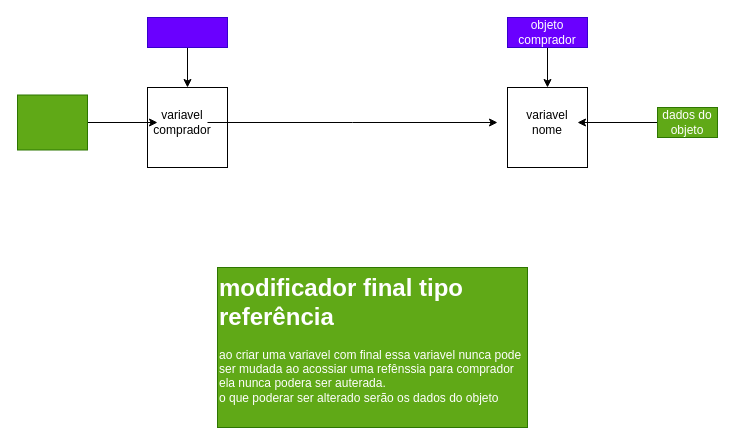
This 735x448 diagram has some shape labels left out. The centre of each missing label's shape, as x and y in pixels:
objeto carro: point (187, 32)
variavel não alterada: point (52, 122)
